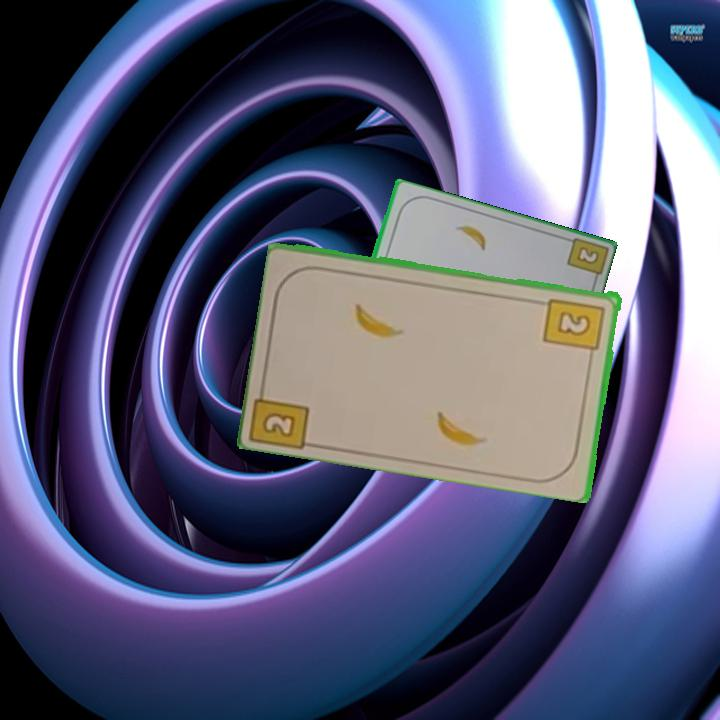2b: (250, 377, 313, 450), (541, 294, 608, 362), (573, 243, 602, 267)
